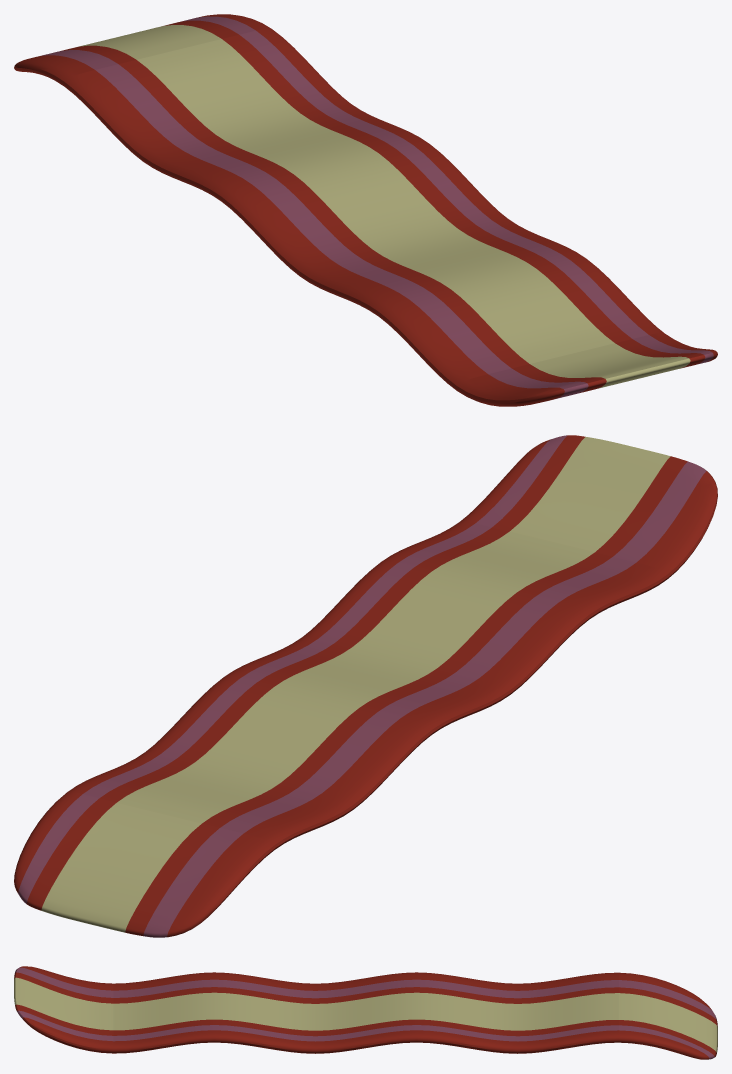
Rendered from cook bacon.fbx.
3 views of the same model, one above another, from view 1: azimuth 30°, elevation 25°; view 2: azimuth 150°, elevation 25°; view 3: azimuth 270°, elevation 25° (orthographic). The views are drawn at different scales.
Parts seen in each view (by area): view 1: Plane.001; view 2: Plane.001; view 3: Plane.001.
Boxes of the visible parts, x1,y1,x2,y2 form: Plane.001: (14, 14, 717, 406); Plane.001: (14, 435, 717, 937); Plane.001: (14, 966, 717, 1059).
Size of the model in its own units: 257 by 91.17 by 1152.
